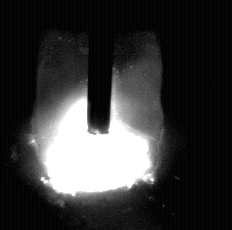arame: (88, 0, 112, 134)
poca: (32, 0, 166, 230)
